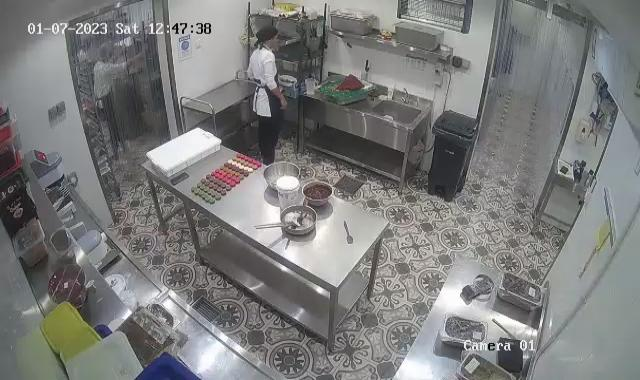no_hairnet: (257, 26, 280, 46)
